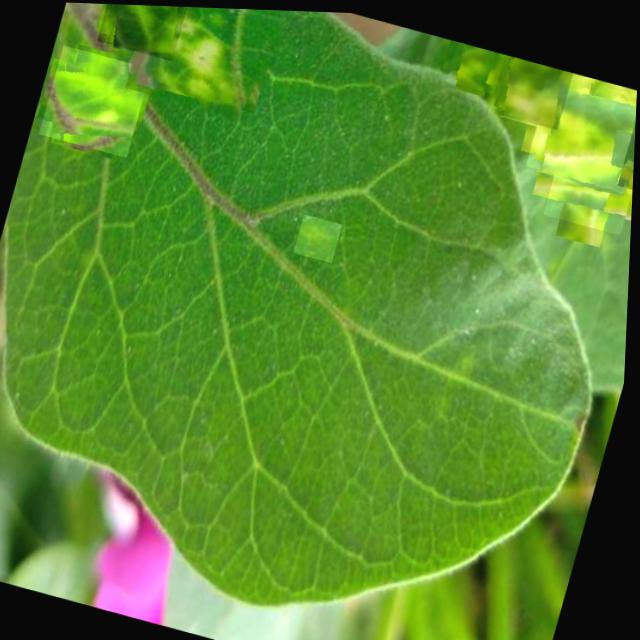leaf_spot: (124, 4, 290, 120), (526, 60, 638, 189), (39, 43, 152, 156), (545, 133, 636, 230), (495, 51, 574, 125), (96, 3, 192, 59), (446, 37, 505, 89), (295, 210, 344, 259), (618, 102, 637, 193)
